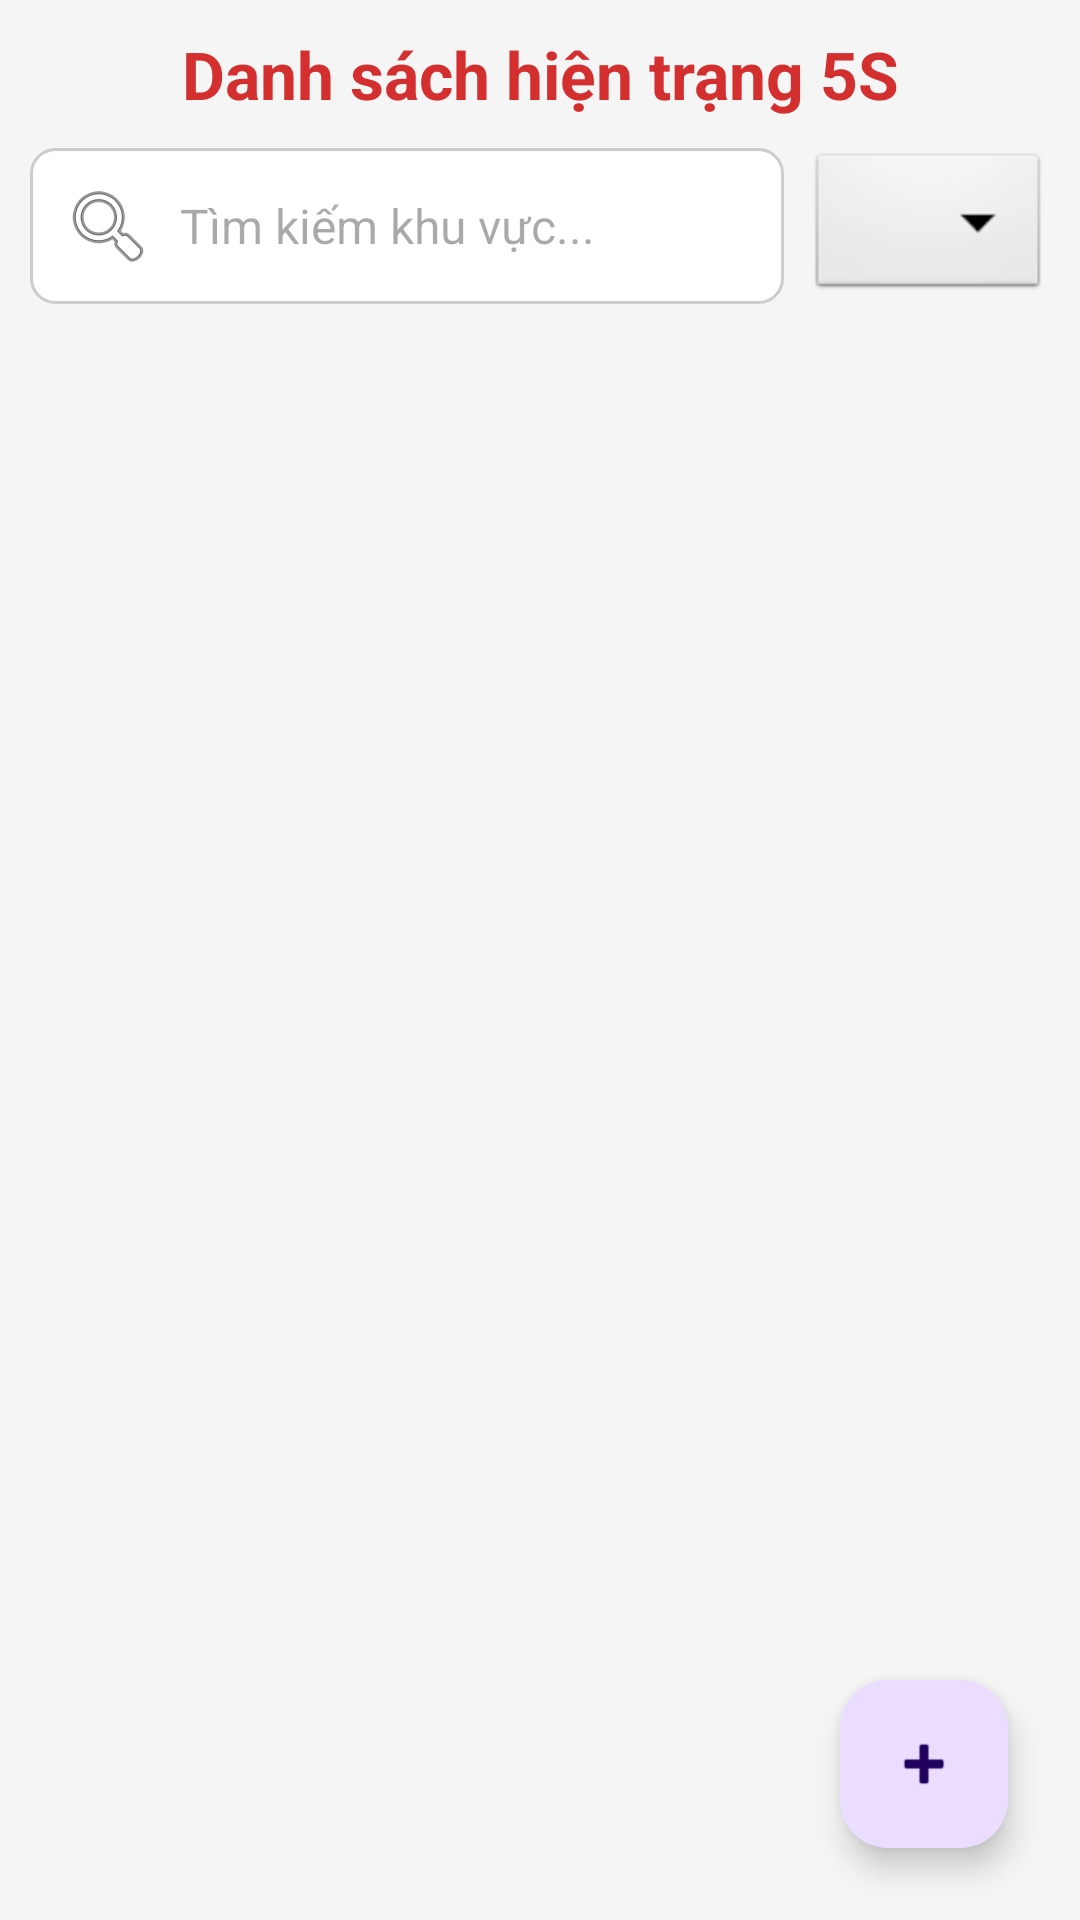

Where icons sit on this 1080px×1920px app screen, as (x1, y1, x2, y2):
Thêm báo cáo: (840, 1680, 1008, 1848)
